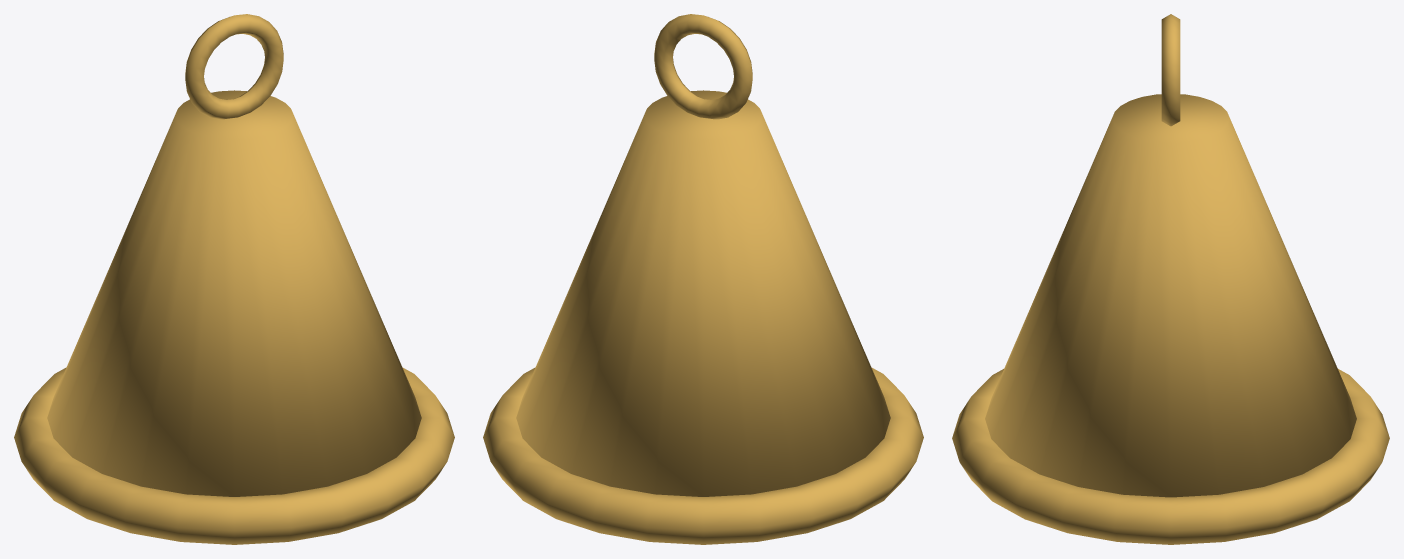
The model's file is bell.glb.
3 views of the same model, side by side, from view 1: azimuth 30°, elevation 25°; view 2: azimuth 150°, elevation 25°; view 3: azimuth 270°, elevation 25° (orthographic).
Parts seen in each view (by area): view 1: Tint, Bell rim, Hanging loop; view 2: Tint, Bell rim, Hanging loop; view 3: Tint, Bell rim, Hanging loop.
Boxes of the visible parts, x1=… form: Tint: x1=47, y1=90, x2=421, y2=496; Bell rim: x1=14, y1=367, x2=454, y2=544; Hanging loop: x1=185, y1=14, x2=283, y2=119; Tint: x1=516, y1=90, x2=890, y2=496; Bell rim: x1=483, y1=367, x2=923, y2=544; Hanging loop: x1=654, y1=14, x2=752, y2=119; Tint: x1=985, y1=94, x2=1356, y2=497; Bell rim: x1=952, y1=369, x2=1389, y2=544; Hanging loop: x1=1161, y1=14, x2=1180, y2=126.
Bounding box in the file's own units: 0.248 × 0.303 × 0.248.
